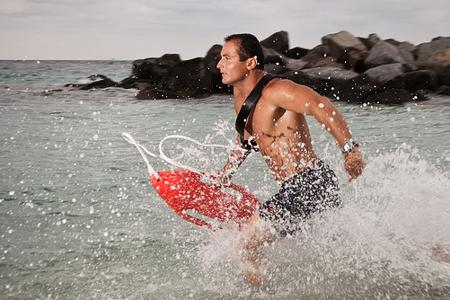person: (207, 32, 367, 290)
